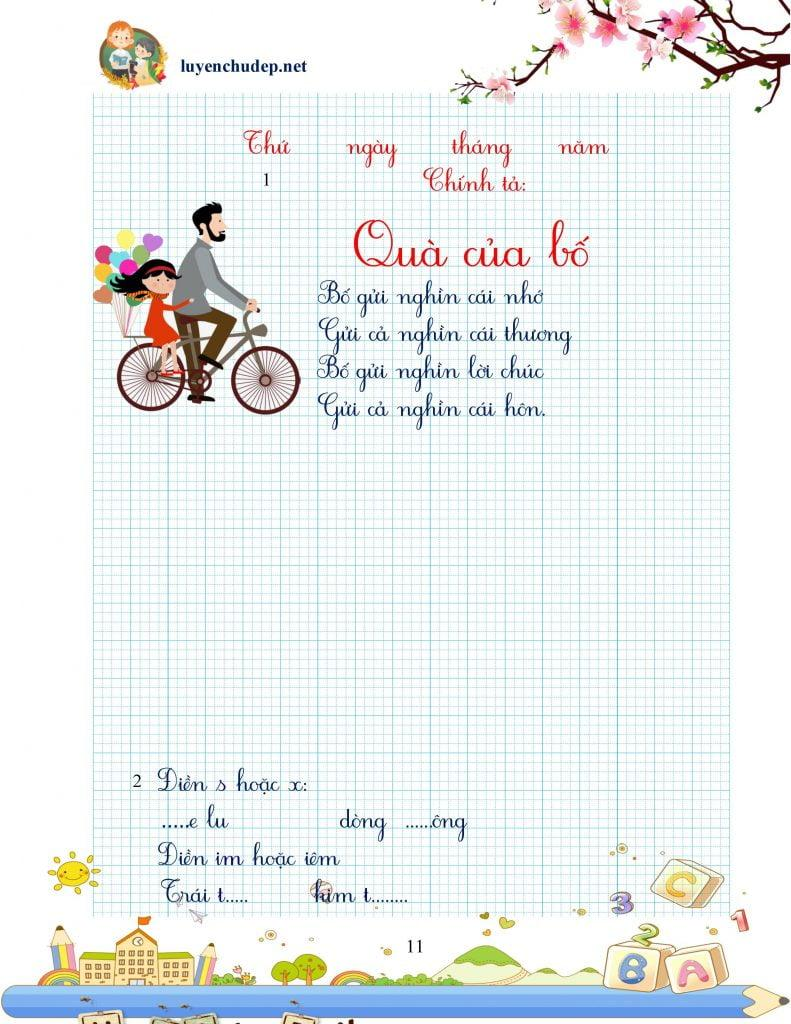text: (349, 216, 594, 273), (316, 348, 548, 396), (316, 318, 574, 357), (312, 278, 548, 320), (313, 391, 546, 432), (129, 762, 312, 797), (338, 802, 471, 849), (153, 843, 340, 872), (307, 875, 410, 910), (176, 53, 310, 79), (422, 164, 530, 196), (159, 877, 254, 907), (449, 129, 515, 170), (155, 801, 232, 832), (345, 138, 400, 170), (243, 127, 292, 159), (555, 139, 614, 157), (405, 935, 425, 955), (260, 171, 272, 190)
